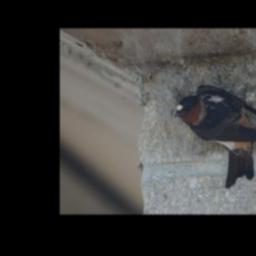Swallow: (172, 82, 256, 188)
